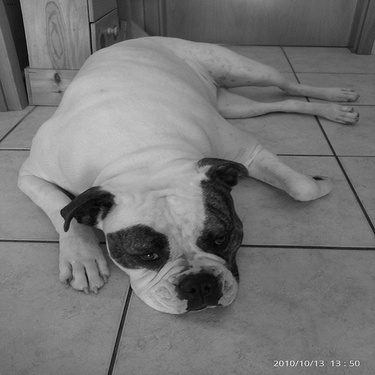dog: (12, 30, 363, 319)
